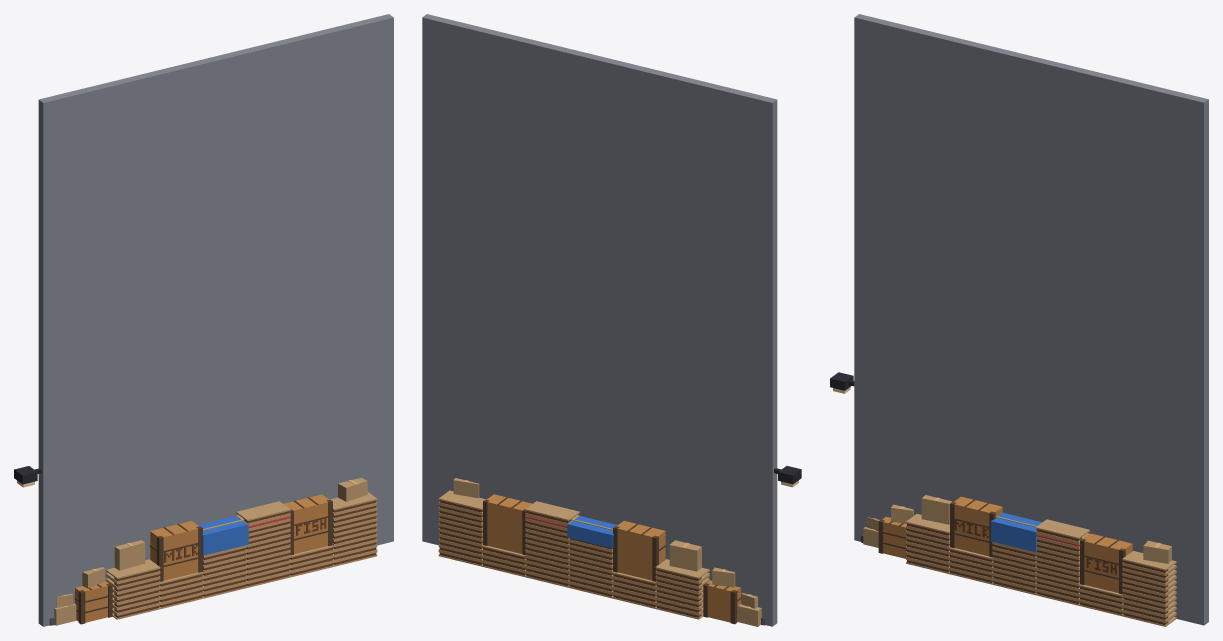
The model's file is CatCafe_Alley_Blocker_Pallets.glb.
3 views of the same model, side by side, from view 1: azimuth 30°, elevation 25°; view 2: azimuth 150°, elevation 25°; view 3: azimuth 330°, elevation 25° (orthographic).
Parts seen in each view (by area): view 1: CatCafe_Alley_Blocker_Pallets_Barrier, CatCafe_Alley_Blocker_Pallets; view 2: CatCafe_Alley_Blocker_Pallets_Barrier, CatCafe_Alley_Blocker_Pallets; view 3: CatCafe_Alley_Blocker_Pallets_Barrier, CatCafe_Alley_Blocker_Pallets.
Boxes of the visible parts, x1,y1,x2,y2 form: CatCafe_Alley_Blocker_Pallets_Barrier: (38,14,393,626); CatCafe_Alley_Blocker_Pallets: (14,466,377,625); CatCafe_Alley_Blocker_Pallets_Barrier: (422,14,777,626); CatCafe_Alley_Blocker_Pallets: (438,466,801,626); CatCafe_Alley_Blocker_Pallets_Barrier: (854,14,1208,625); CatCafe_Alley_Blocker_Pallets: (830,372,1176,626).
Size of the model in its own units: 22.35 by 30.01 by 2.92.
1 material, 1 textured.
